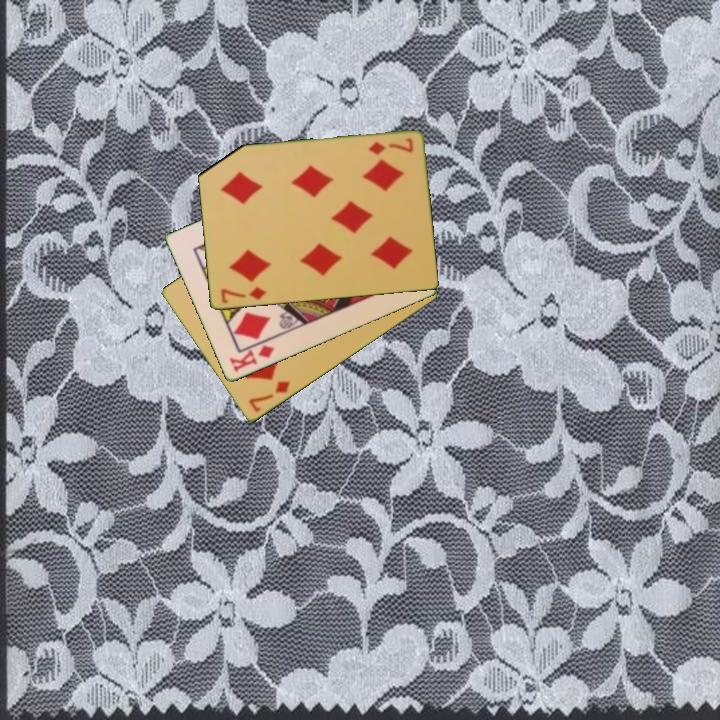7d: (245, 378, 293, 416), (217, 283, 269, 306), (365, 135, 416, 158)
Kd: (226, 342, 277, 376)
